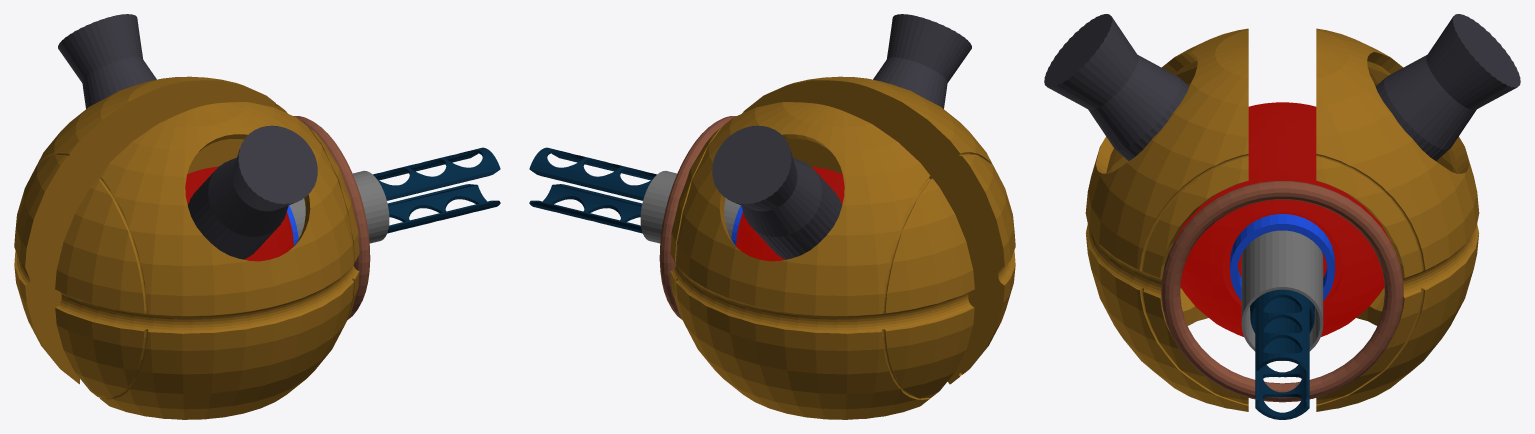
The model's file is Drone.fbx.
3 views of the same model, side by side, from view 1: azimuth 30°, elevation 25°; view 2: azimuth 150°, elevation 25°; view 3: azimuth 270°, elevation 25° (orthographic). The views are drawn at different scales.
Visible parts, largest first — view 1: shell; view 2: shell; view 3: shell.
Part boxes in pixels (x1,y1,x2,y2): shell: (14,14,500,419); shell: (529,14,1015,419); shell: (1044,14,1520,419).
Size of the model in its own units: 296 by 190 by 241.
